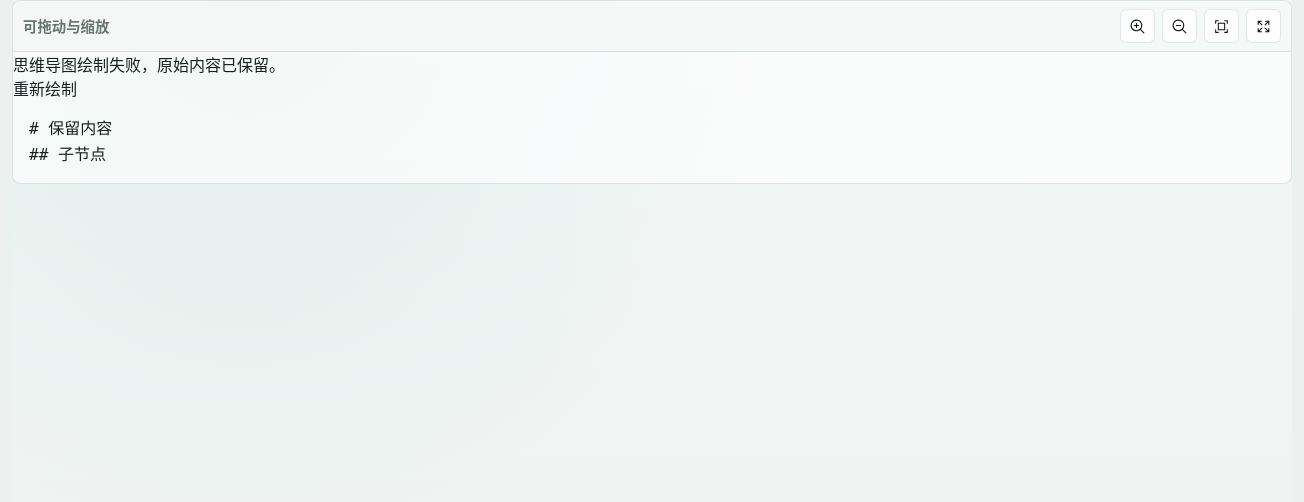
Test case: ResourceRenderer › retains mindmap source after a rendering failure and can retry on the same canvas
Check: the message shows "绘制失败", box 13,52 -> 285,76
Check: the text "# 保留内容" is shown, box 29,119 -> 112,164
Click the button "重新绘制". click: (45,88)
box: 13,76 -> 77,100
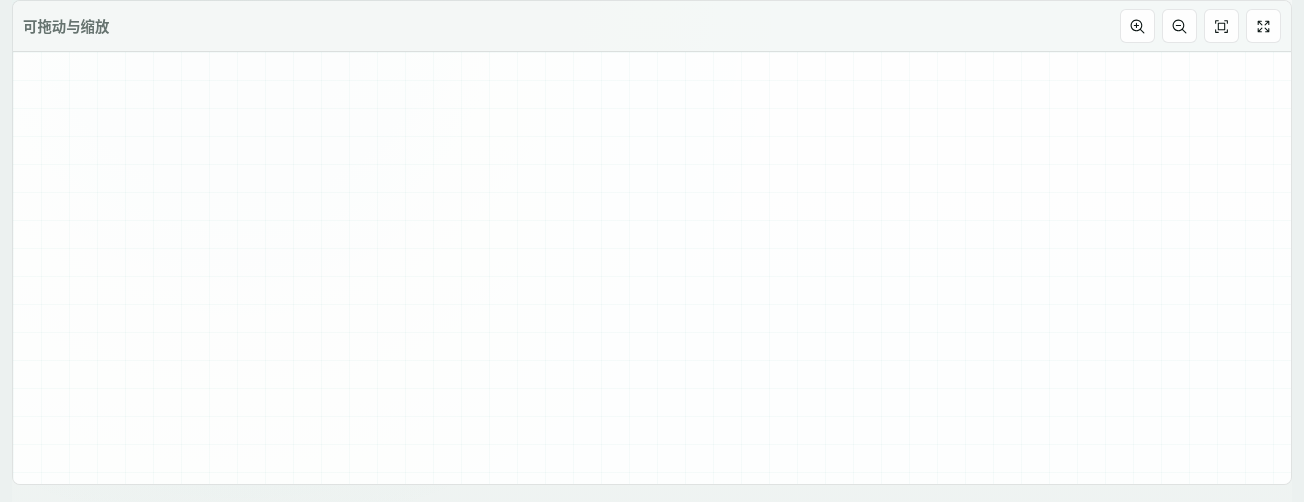
Check: the message "思维导图绘制失败，原始内容已保留。" is gone
Check: the picture named "知识点思维导图" is shown
